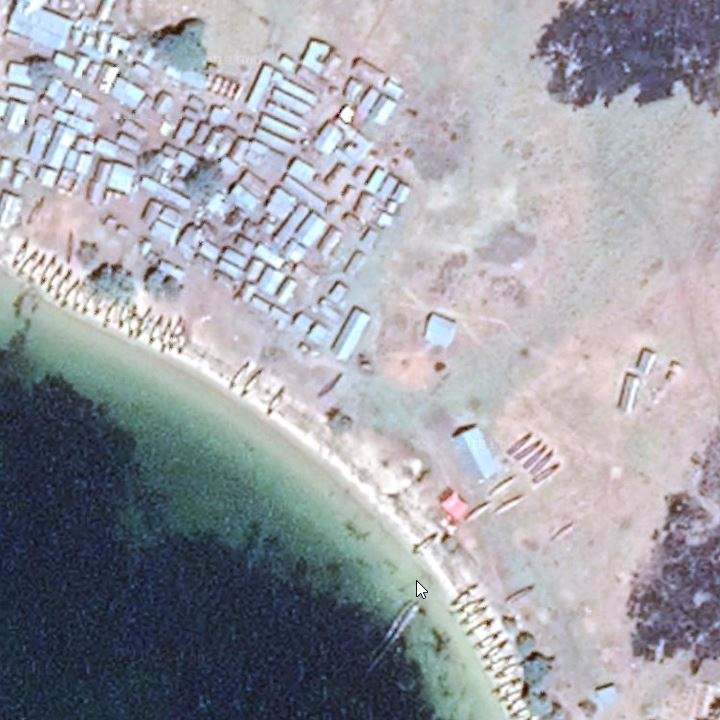boat: (504, 425, 539, 456), (489, 492, 526, 521), (528, 460, 565, 489), (407, 531, 442, 559), (500, 581, 538, 606), (15, 243, 40, 280), (226, 357, 254, 390), (443, 583, 483, 606), (264, 383, 291, 417), (548, 516, 580, 544), (478, 636, 511, 663), (517, 433, 547, 462), (529, 448, 557, 479), (318, 369, 346, 400), (470, 627, 503, 653), (449, 596, 488, 617), (487, 474, 517, 501), (465, 614, 495, 640), (168, 314, 187, 355), (459, 604, 488, 630), (9, 235, 30, 270), (465, 497, 490, 526), (54, 267, 74, 303), (242, 368, 266, 398), (492, 675, 524, 697), (136, 304, 154, 342), (60, 278, 81, 310), (101, 295, 119, 332), (37, 252, 55, 289), (27, 251, 46, 286), (485, 652, 515, 674), (527, 441, 547, 474), (46, 262, 63, 299), (27, 194, 46, 227), (494, 659, 525, 679), (146, 313, 163, 348), (91, 287, 108, 321), (72, 281, 89, 315), (80, 287, 98, 319), (176, 318, 190, 359), (158, 318, 172, 355), (499, 687, 523, 706), (127, 302, 138, 342), (65, 227, 76, 266), (118, 296, 130, 327), (507, 696, 526, 713), (509, 707, 531, 719)
